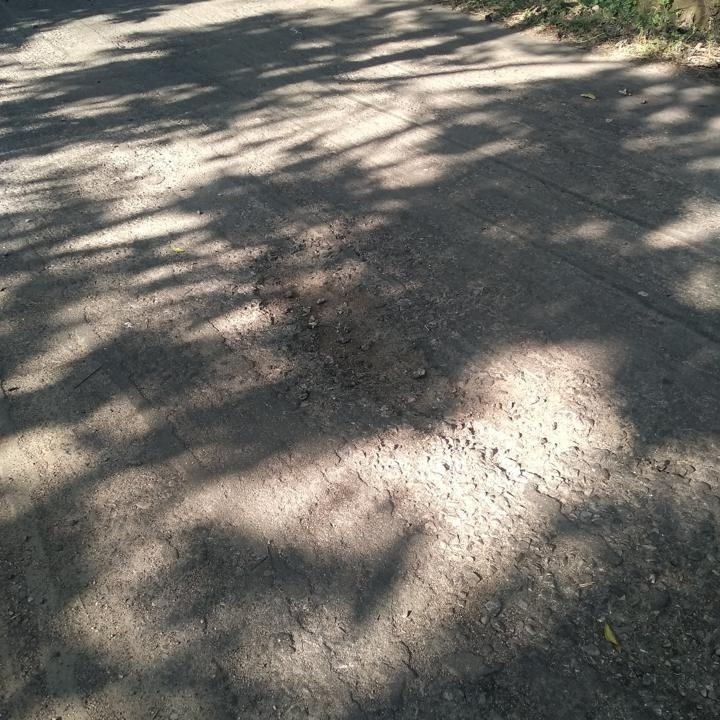pothole: (247, 236, 476, 439)
